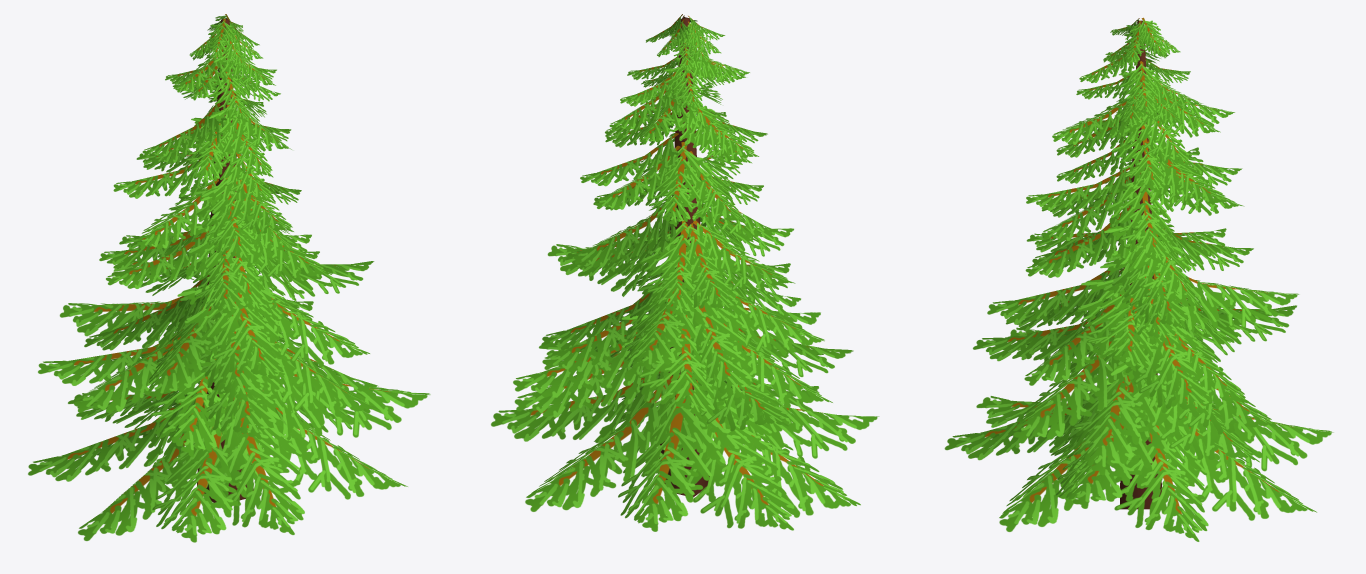
Rendered from tree.glb.
3 renders of one model, left to right at view 1: azimuth 30°, elevation 25°; view 2: azimuth 150°, elevation 25°; view 3: azimuth 270°, elevation 25°, orthographic. The views are drawn at different scales.
Parts seen in each view (by area): view 1: vetev-sample; view 2: vetev-sample; view 3: vetev-sample.
Part boxes in pixels (x1=…): vetev-sample: x1=28, y1=14, x2=430, y2=542; vetev-sample: x1=491, y1=14, x2=879, y2=531; vetev-sample: x1=944, y1=17, x2=1333, y2=541.
Bounding box in the file's own units: 12.81 × 16.64 × 12.83.
2 materials, 1 textured.
